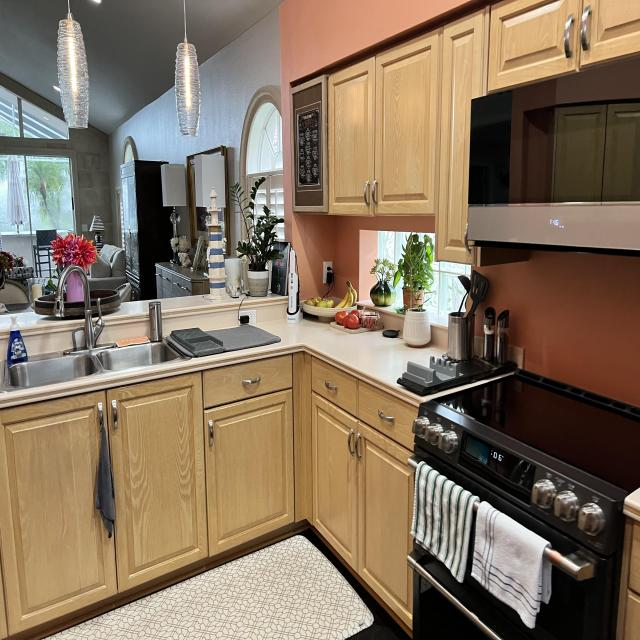Appliance_Oven: (407, 371, 640, 640)
Appliance_Sink: (9, 265, 179, 388)
Cabinet_Raised_Panel: (4, 351, 422, 640), (327, 0, 640, 263)
Countertop_Solid_Surface: (0, 307, 446, 408), (19, 319, 84, 361), (96, 313, 150, 347), (161, 311, 239, 333)
